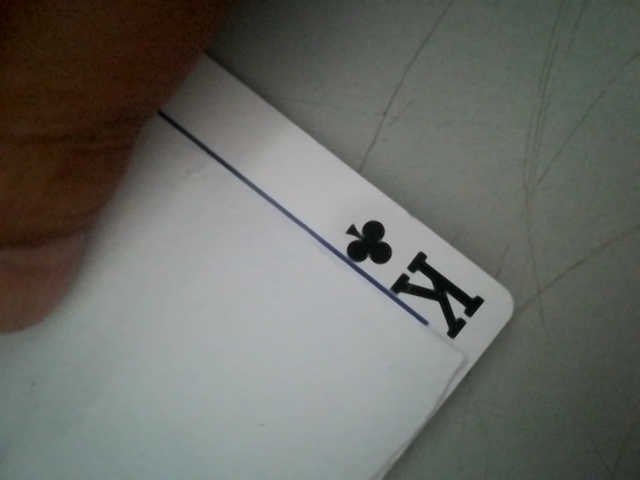mh k: (331, 205, 491, 347)
